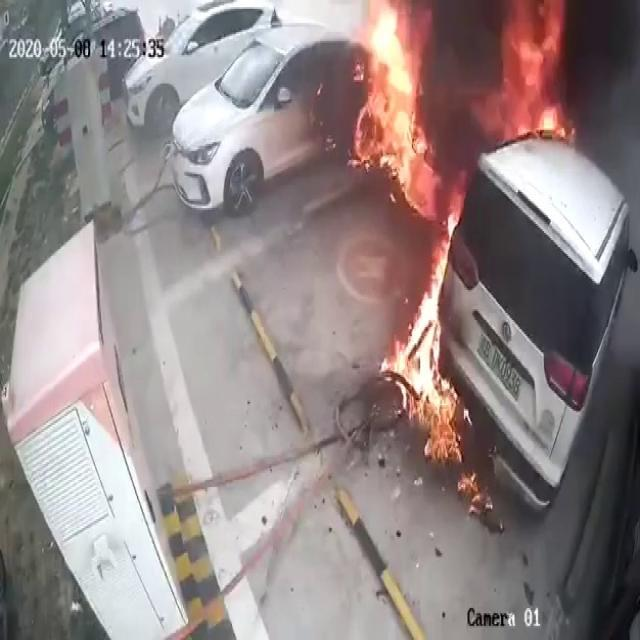Fire: (348, 3, 468, 433), (494, 2, 574, 150)
